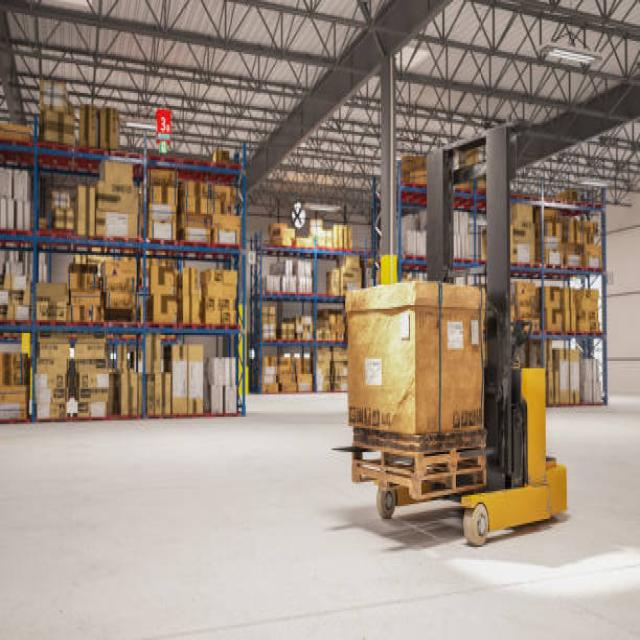Wooden-Pallets: (348, 435, 492, 484), (347, 461, 493, 508)
